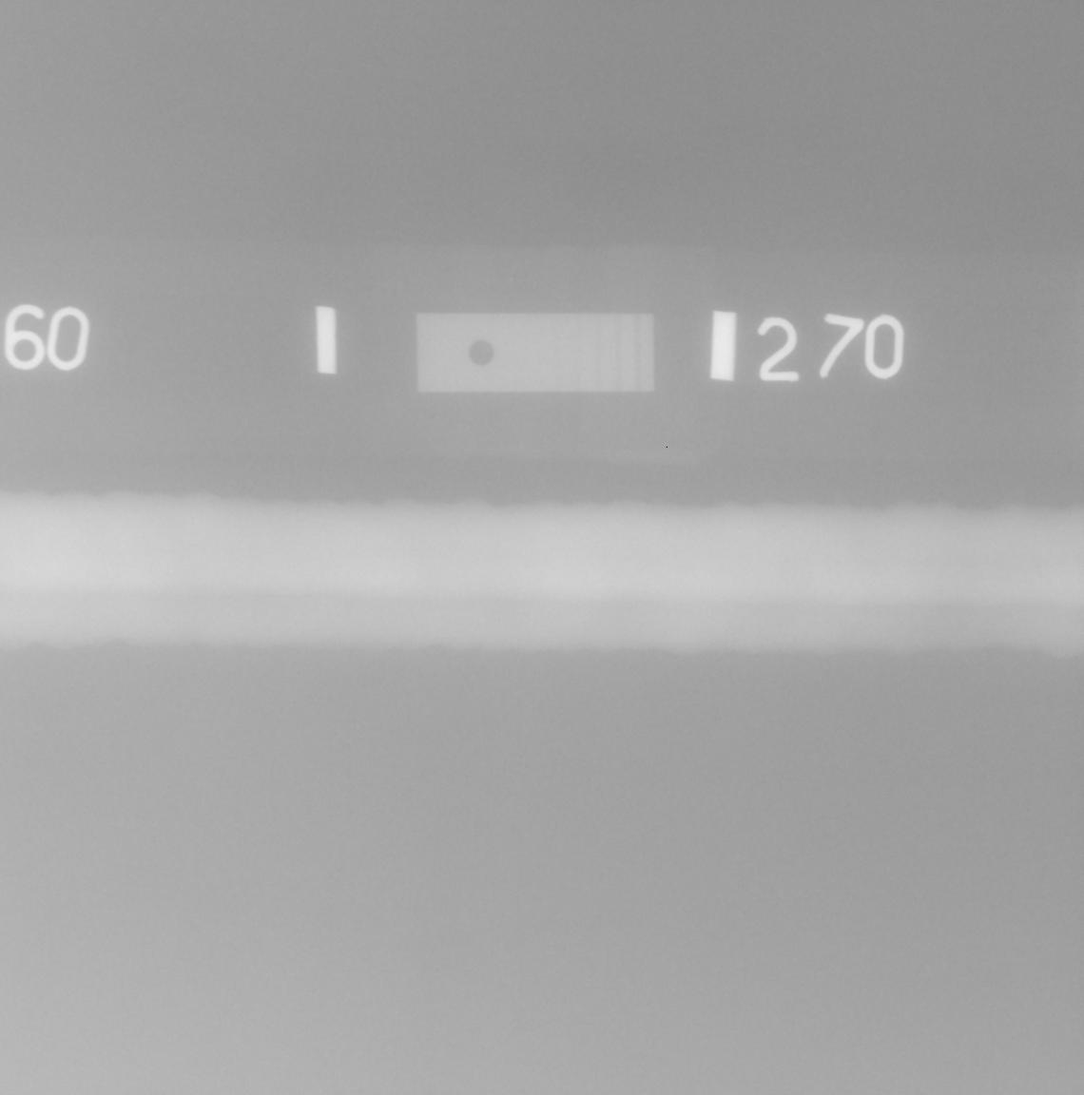Reference Standard 1: (417, 312, 654, 392)
